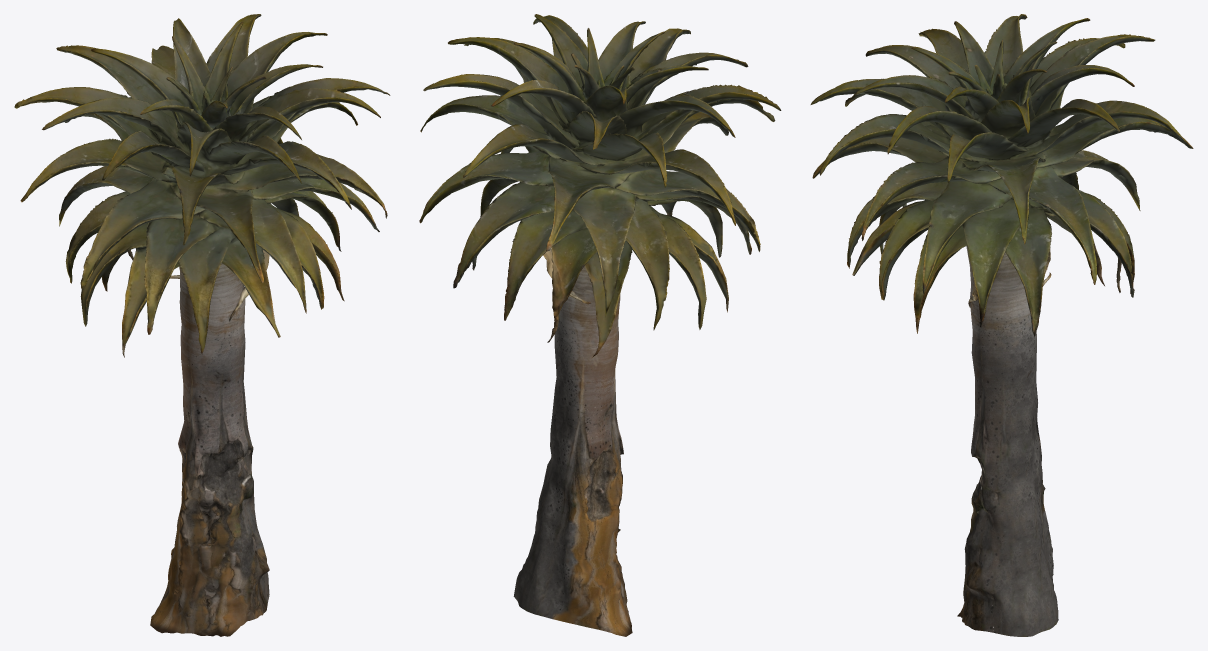
File: quiver-tree.glb
The picture shows the model from 3 angles, left to right: view 1: azimuth 30°, elevation 25°; view 2: azimuth 150°, elevation 25°; view 3: azimuth 270°, elevation 25°; orthographic projection.
Visible parts, largest first — view 1: quiver_tree_02; view 2: quiver_tree_02; view 3: quiver_tree_02.
Part boxes in pixels (x1,y1,x2,y2): quiver_tree_02: (14, 14, 390, 636); quiver_tree_02: (419, 14, 781, 636); quiver_tree_02: (810, 14, 1193, 636).
Bounding box in the file's own units: 0.872 × 1.47 × 0.8805.
1 material, 1 textured.
